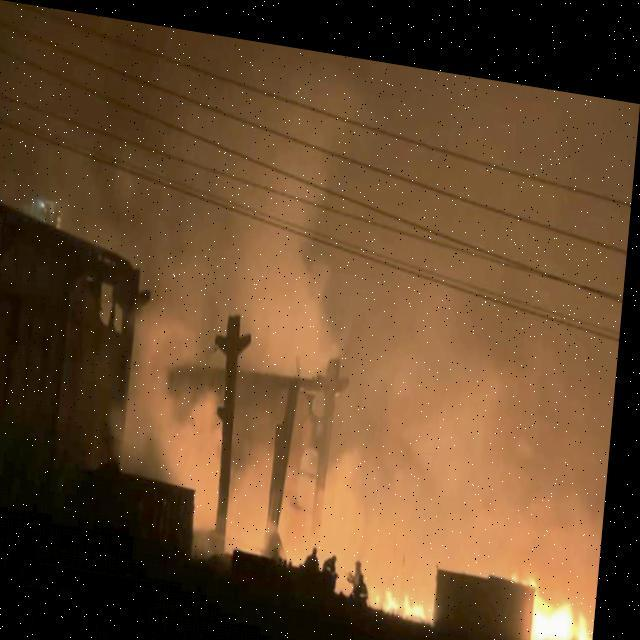Fire: (534, 559, 604, 629), (372, 556, 442, 612)
